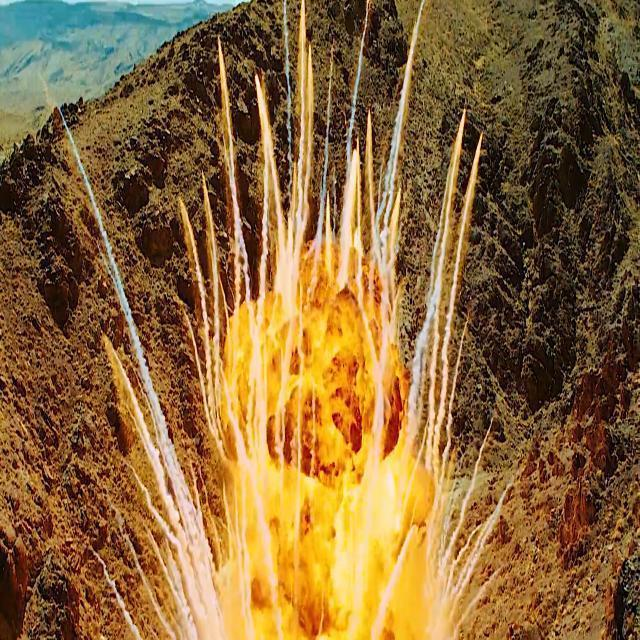fire: (116, 27, 512, 640)
